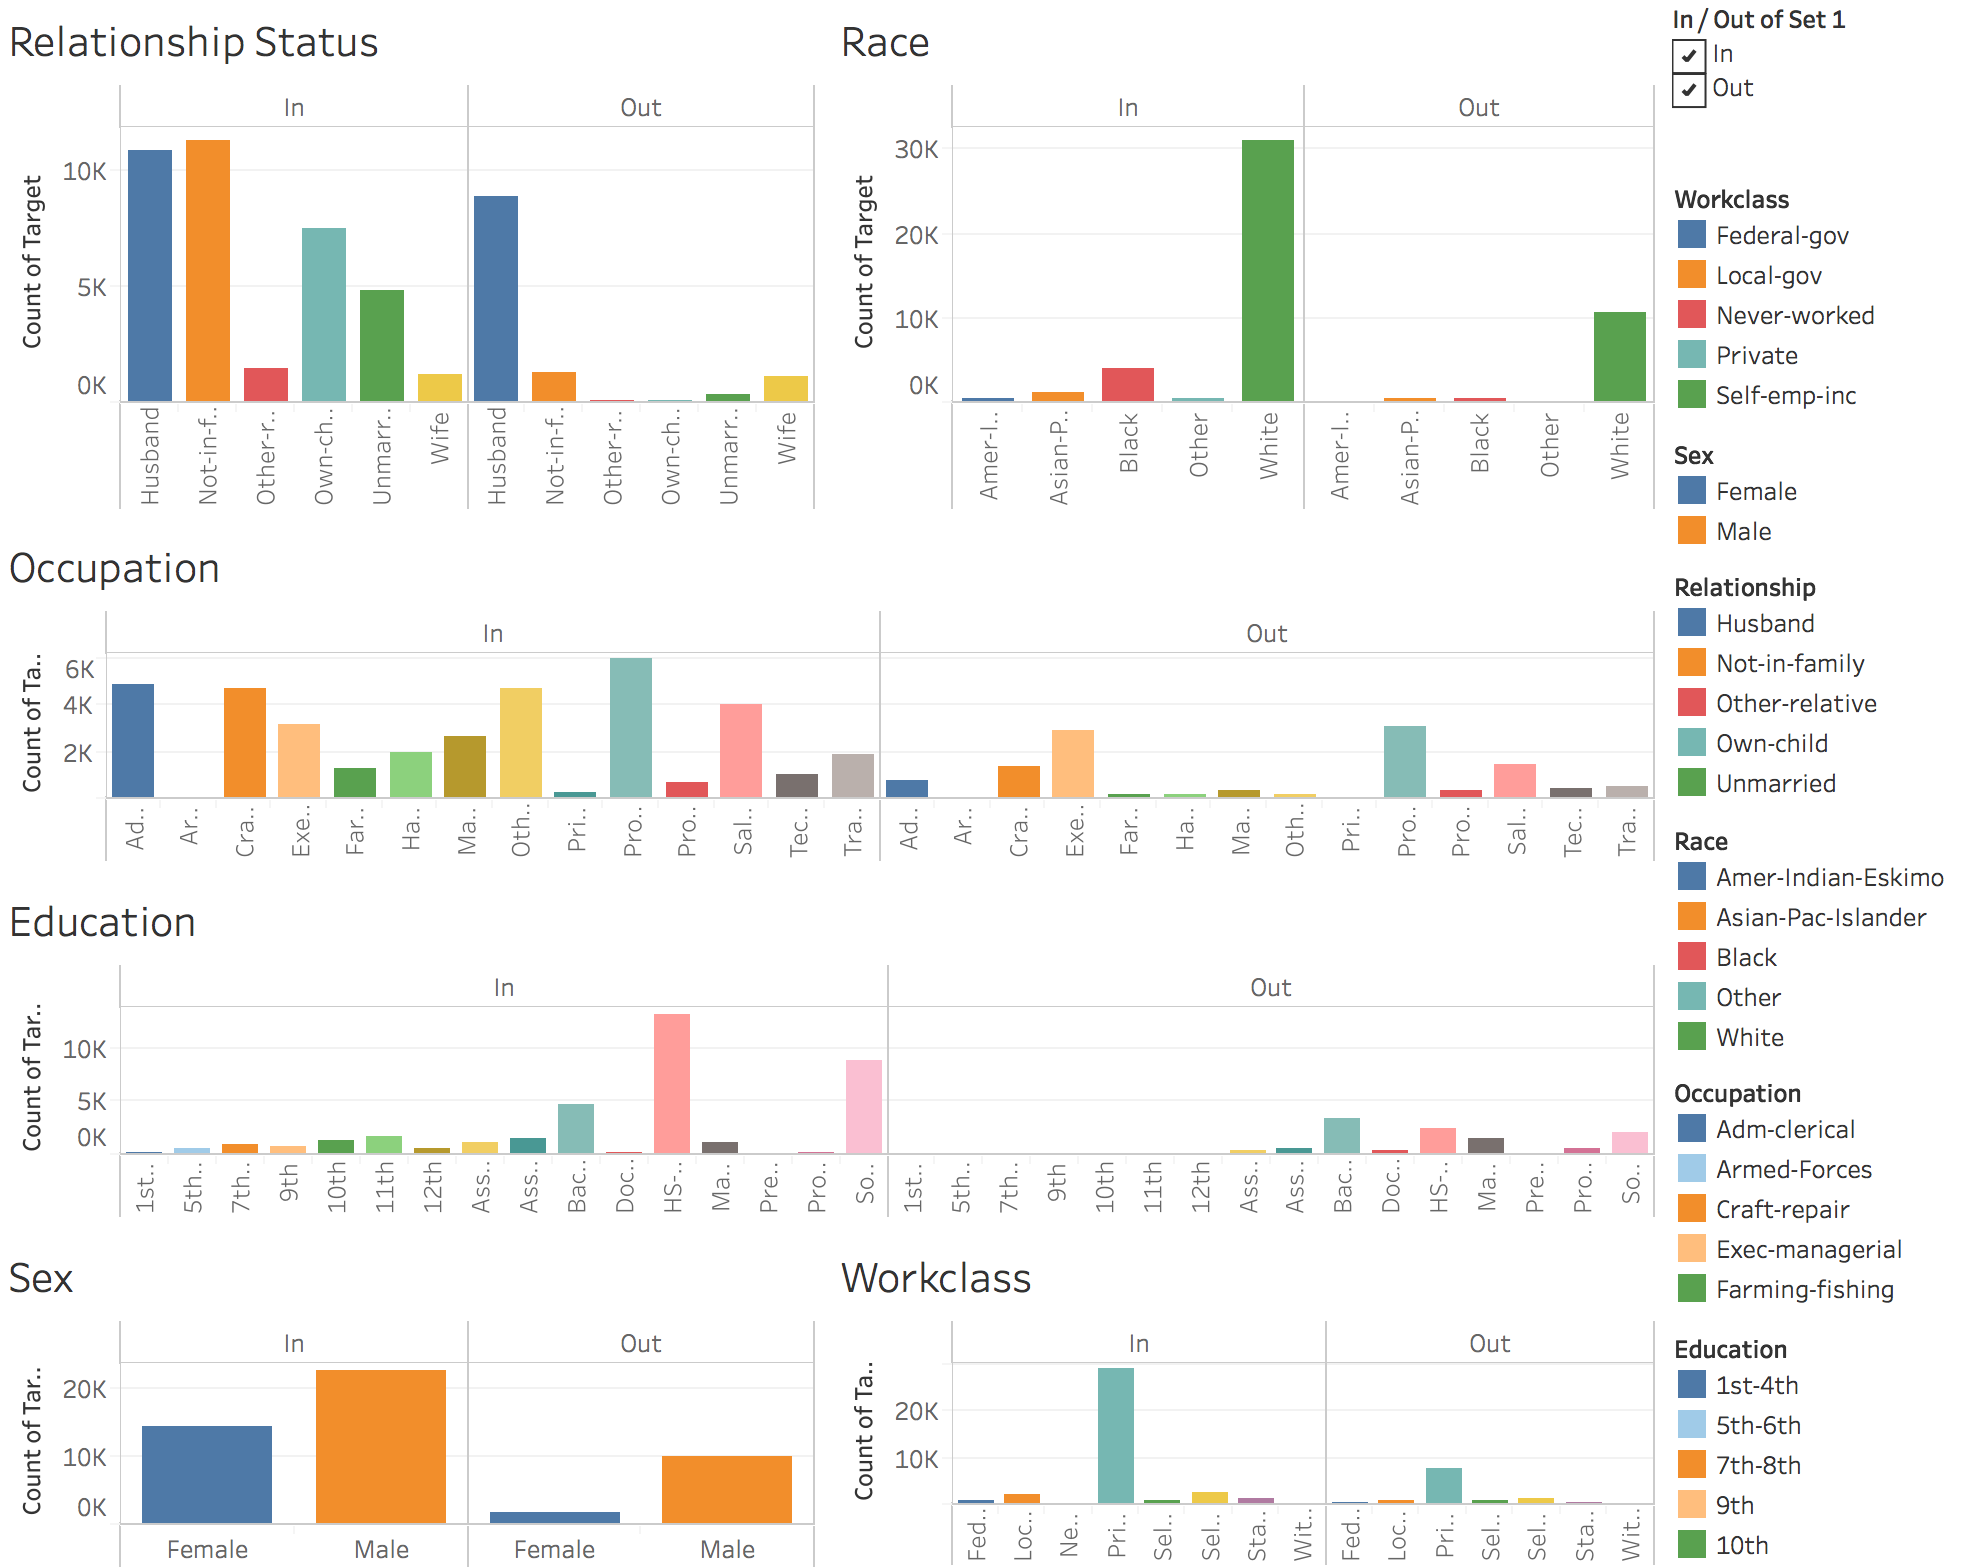

The dashboard page shown, as its layout file describes it:
{"tool":"tableau","page":{"name":"Dashboard 2","canvas":[1000,800],"ordinal":0},"visuals":[{"type":"worksheet","title":"Sheet 4","mark":"Automatic","rows":["target"],"cols":["Set 1","sex"],"box":[0,0,420,200]},{"type":"worksheet","title":"Sheet 6","mark":"Automatic","rows":["target"],"cols":["Set 1","race"],"box":[420,0,420,200]},{"type":"legend","title":"Sheet 8","param":"[federated.1fxxl0y1fysf7w15zi5m10pkil5a].[none:education:nk]","box":[840,0,160,155.3]},{"type":"legend","title":"Sheet 7","param":"[federated.1fxxl0y1fysf7w15zi5m10pkil5a].[none:occupation:nk]","box":[840,155.3,160,151.3]},{"type":"worksheet","title":"Sheet 7","mark":"Automatic","rows":["target"],"cols":["Set 1","occupation"],"box":[0,200,840,200]},{"type":"legend","title":"Sheet 6","param":"[federated.1fxxl0y1fysf7w15zi5m10pkil5a].[none:race:nk]","box":[840,306.7,160,126]},{"type":"worksheet","title":"Sheet 3","mark":"Automatic","rows":["target"],"cols":["Set 1","workclass"],"box":[0,400,420,200]},{"type":"worksheet","title":"Sheet 5","mark":"Automatic","rows":["target"],"cols":["Set 1","relationship"],"box":[420,400,420,200]},{"type":"legend","title":"Sheet 4","param":"[federated.1fxxl0y1fysf7w15zi5m10pkil5a].[none:sex:nk]","box":[840,432.7,160,66]},{"type":"legend","title":"Sheet 5","param":"[federated.1fxxl0y1fysf7w15zi5m10pkil5a].[none:relationship:nk]","box":[840,498.7,160,146]},{"type":"worksheet","title":"Sheet 8","mark":"Automatic","rows":["target"],"cols":["Set 1","education"],"box":[0,600,840,200]},{"type":"legend","title":"Sheet 3","param":"[federated.1fxxl0y1fysf7w15zi5m10pkil5a].[none:workclass:nk]","box":[840,644.7,160,155.3]}]}

Visuals, with their boxes in screenshot pixels (x1, y1, x2, y2), scaled from the page's 1000x800 canvas onto the 1968x1568 screenshot:
"Sheet 4" worksheet: (x1=0, y1=0, x2=827, y2=392)
"Sheet 6" worksheet: (x1=827, y1=0, x2=1653, y2=392)
"Sheet 8" legend: (x1=1653, y1=0, x2=1967, y2=304)
"Sheet 7" legend: (x1=1653, y1=304, x2=1967, y2=601)
"Sheet 7" worksheet: (x1=0, y1=392, x2=1653, y2=784)
"Sheet 6" legend: (x1=1653, y1=601, x2=1967, y2=848)
"Sheet 3" worksheet: (x1=0, y1=784, x2=827, y2=1176)
"Sheet 5" worksheet: (x1=827, y1=784, x2=1653, y2=1176)
"Sheet 4" legend: (x1=1653, y1=848, x2=1967, y2=977)
"Sheet 5" legend: (x1=1653, y1=977, x2=1967, y2=1264)
"Sheet 8" worksheet: (x1=0, y1=1176, x2=1653, y2=1567)
"Sheet 3" legend: (x1=1653, y1=1264, x2=1967, y2=1567)
